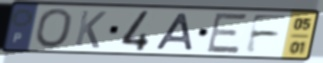4: (118, 9, 152, 53)
A: (153, 12, 196, 52)
E: (204, 12, 251, 55)
F: (242, 13, 291, 56)
K: (72, 9, 109, 50)
O: (32, 7, 75, 50)
